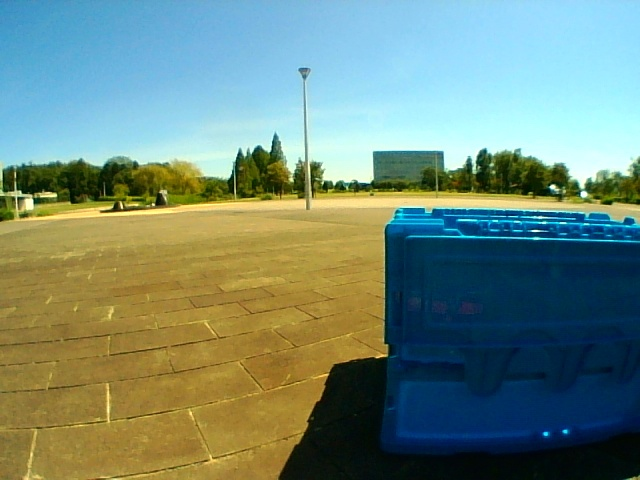blue_box: (390, 216, 640, 439)
